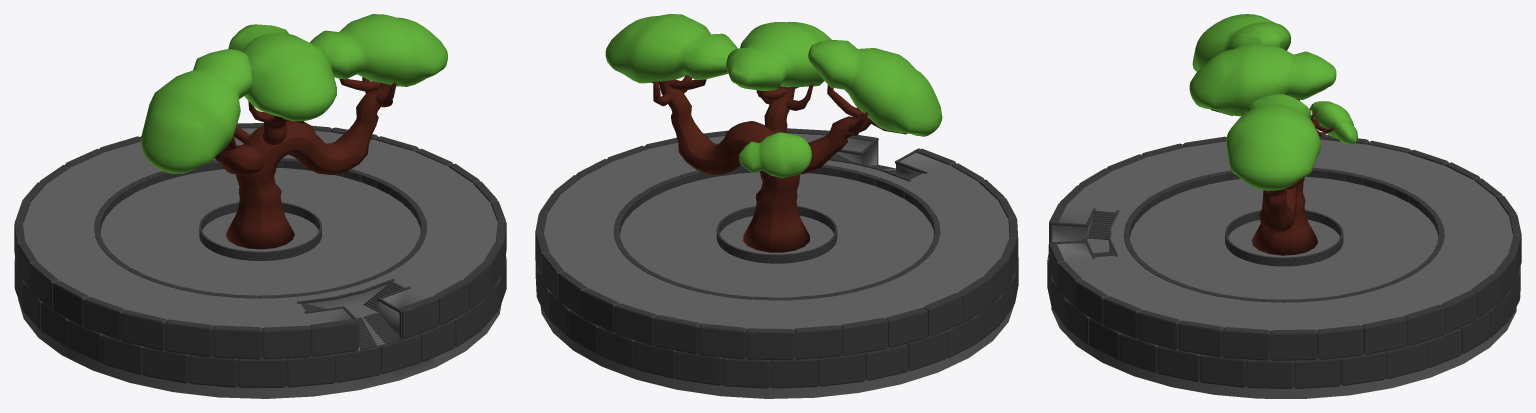
The model's file is hubBaseTexture.fbx.
The picture shows the model from 3 angles, left to right: view 1: azimuth 30°, elevation 25°; view 2: azimuth 150°, elevation 25°; view 3: azimuth 270°, elevation 25°; orthographic projection. The views are drawn at different scales.
Parts seen in each view (by area): view 1: Cylinder.126; view 2: Cylinder.126; view 3: Cylinder.126.
Boxes of the visible parts, bbox=[...] form: Cylinder.126: bbox=[14, 14, 506, 398]; Cylinder.126: bbox=[535, 14, 1018, 398]; Cylinder.126: bbox=[1047, 14, 1521, 398].
Bounding box in the file's own units: 9511 × 5640 × 9510.
